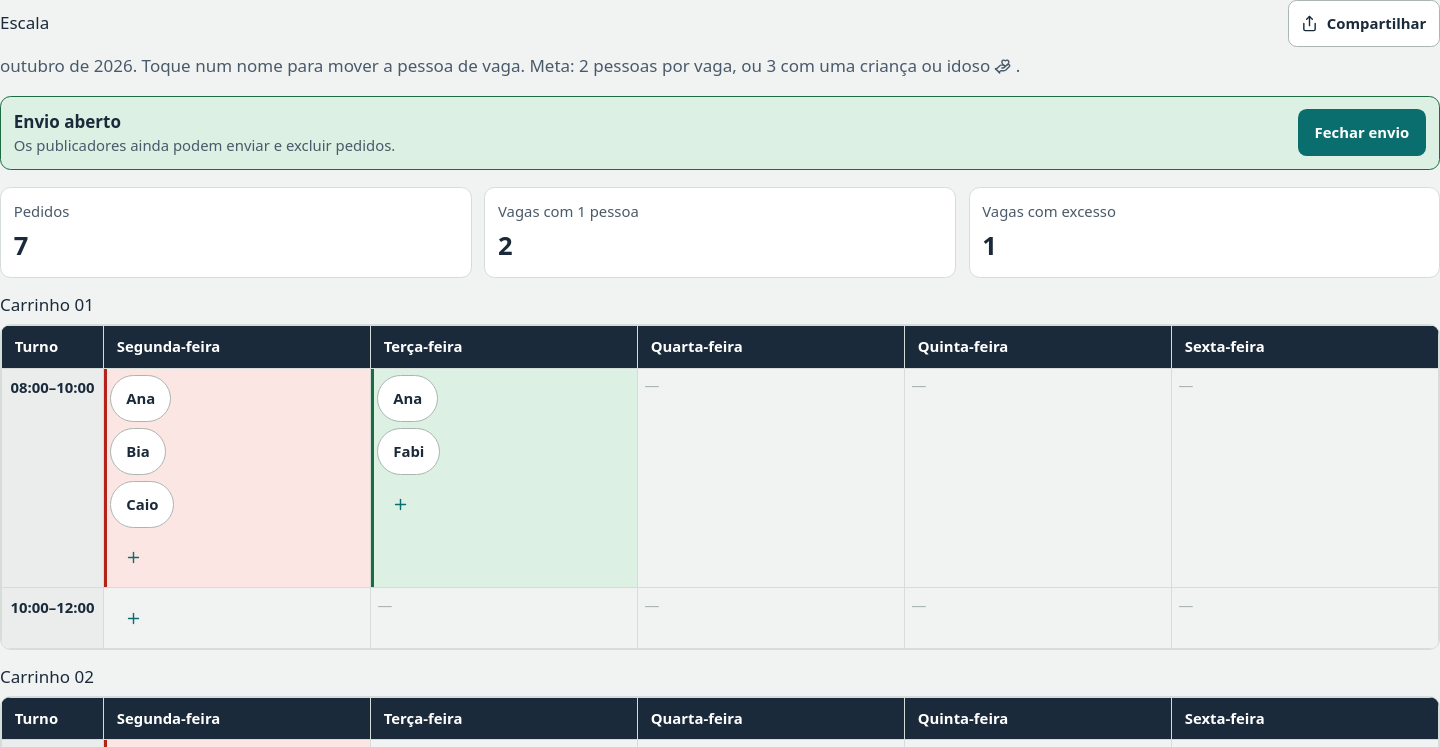
Scenario: RedirecionaParaEscala › envio dos publicadores › fecha o envio com confirmação e depois pode reabrir
Expected: the heading "Escala" is shown, x1=0 y1=13 x2=49 y2=34
Expected: the text "Envio aberto" is shown, x1=14 y1=110 x2=121 y2=133
Click the button "Fechar envio" at (1362,133), box x1=1298 y1=109 x2=1426 y2=156
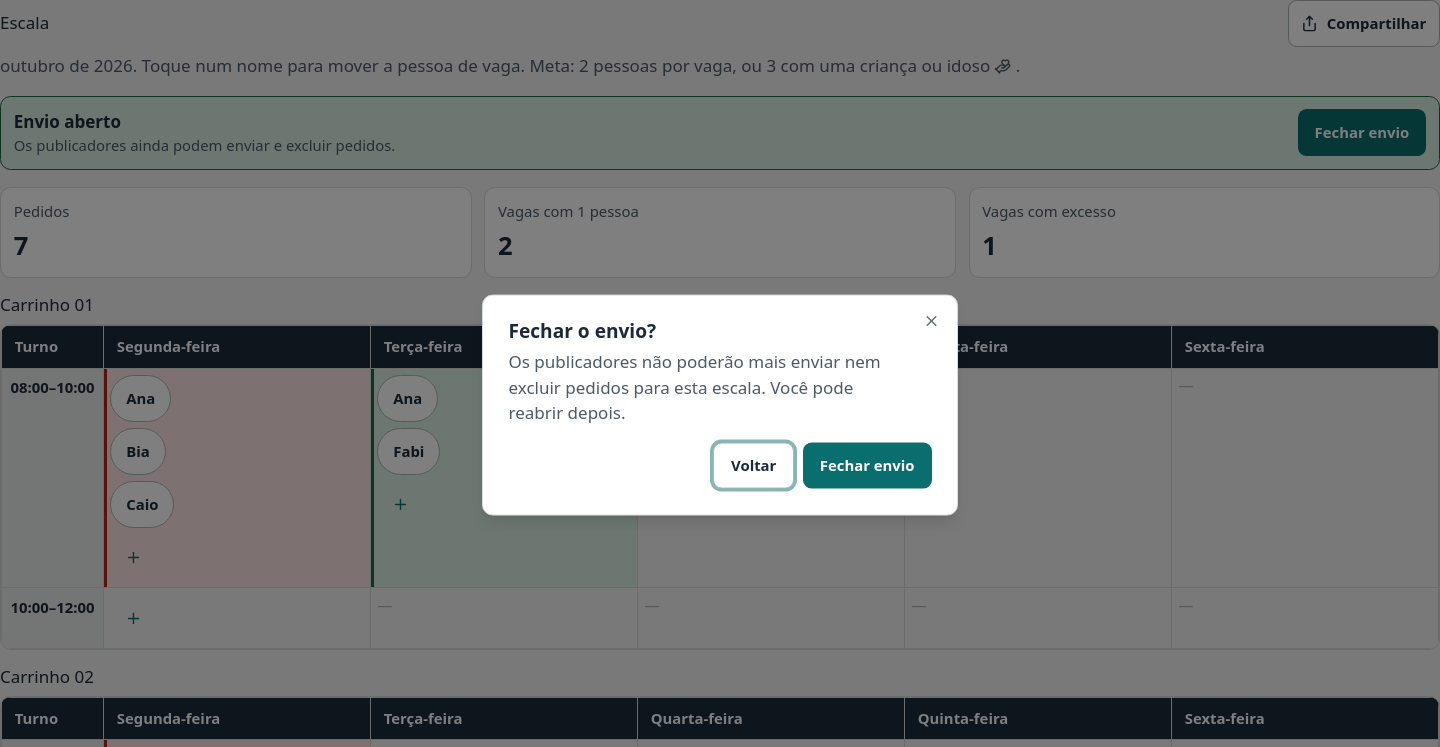
Click the button "Fechar envio" at (867,466), box x1=803 y1=442 x2=932 y2=489
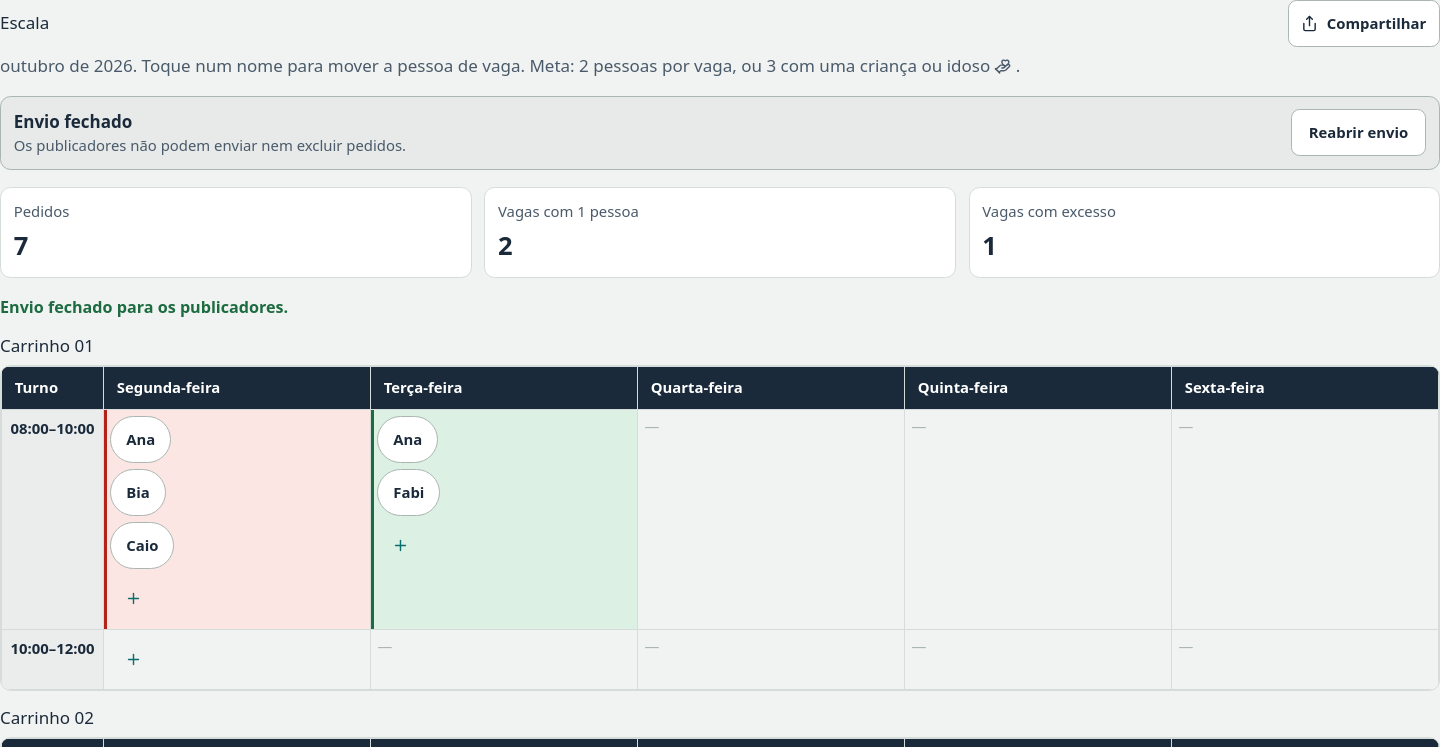
Result: the text "Envio fechado" is shown at x1=14 y1=110 x2=132 y2=133
Result: the message reads "Envio fechado para os publicadores." at x1=0 y1=296 x2=288 y2=318
Click the button "Reabrir envio" at (1358,133), box x1=1291 y1=109 x2=1426 y2=156
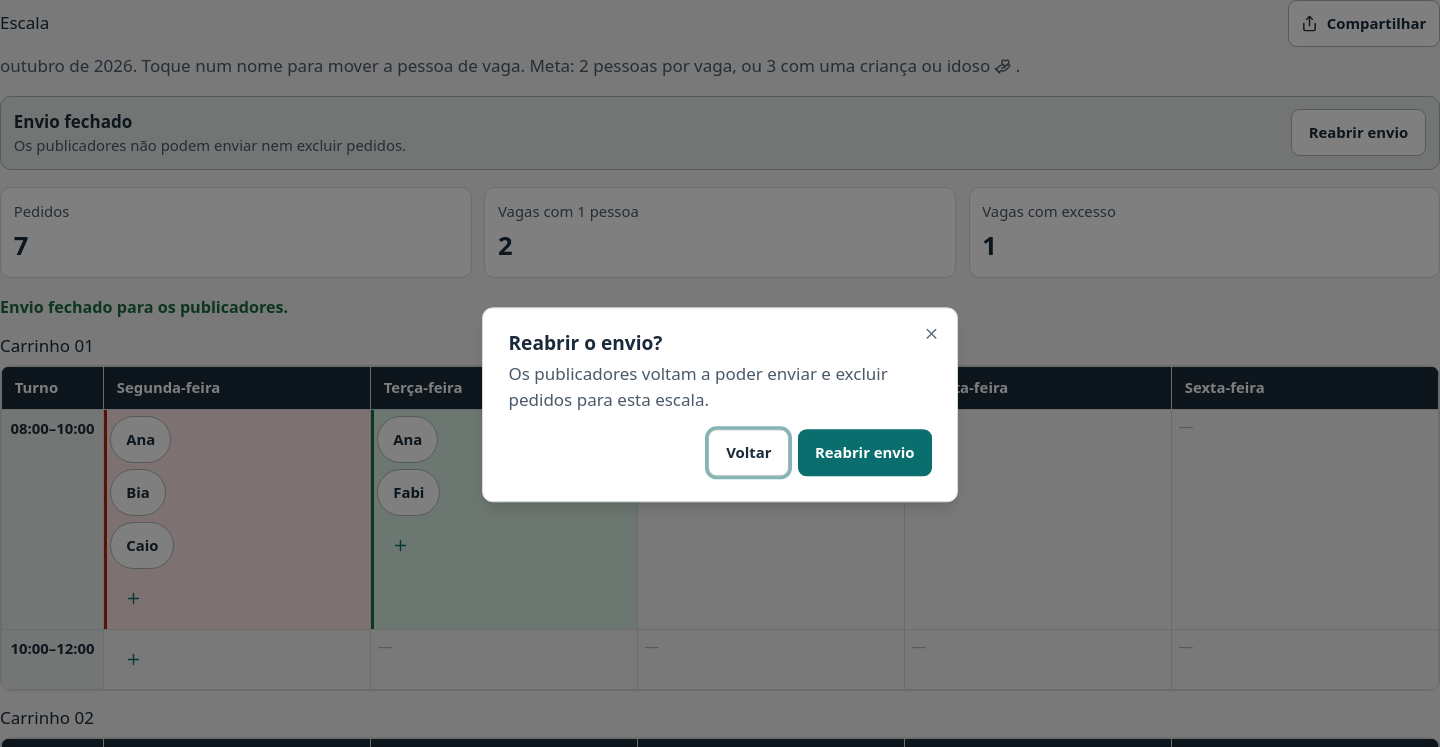
Click the button "Reabrir envio" at (865,453), box x1=798 y1=429 x2=932 y2=476
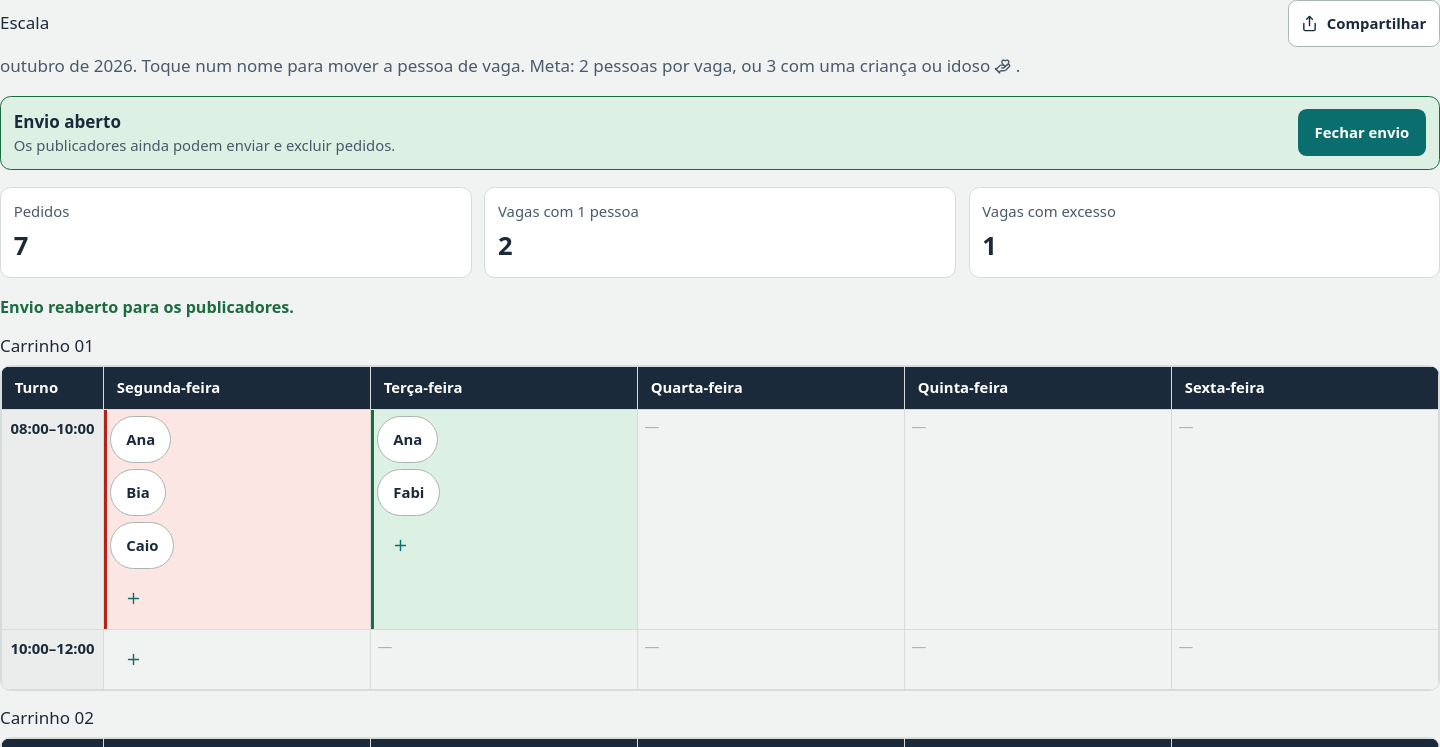
Result: the text "Envio aberto" is shown at x1=14 y1=110 x2=121 y2=133
